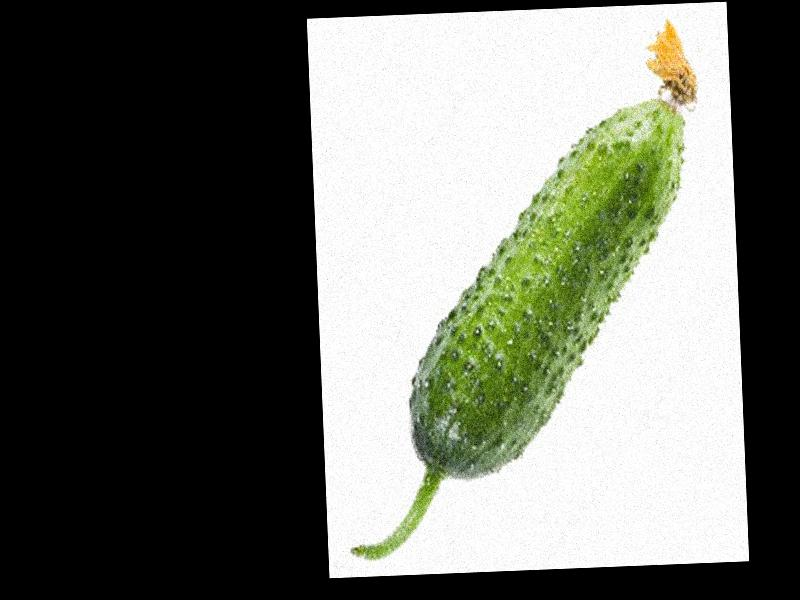Cucumber: (332, 17, 716, 559)
